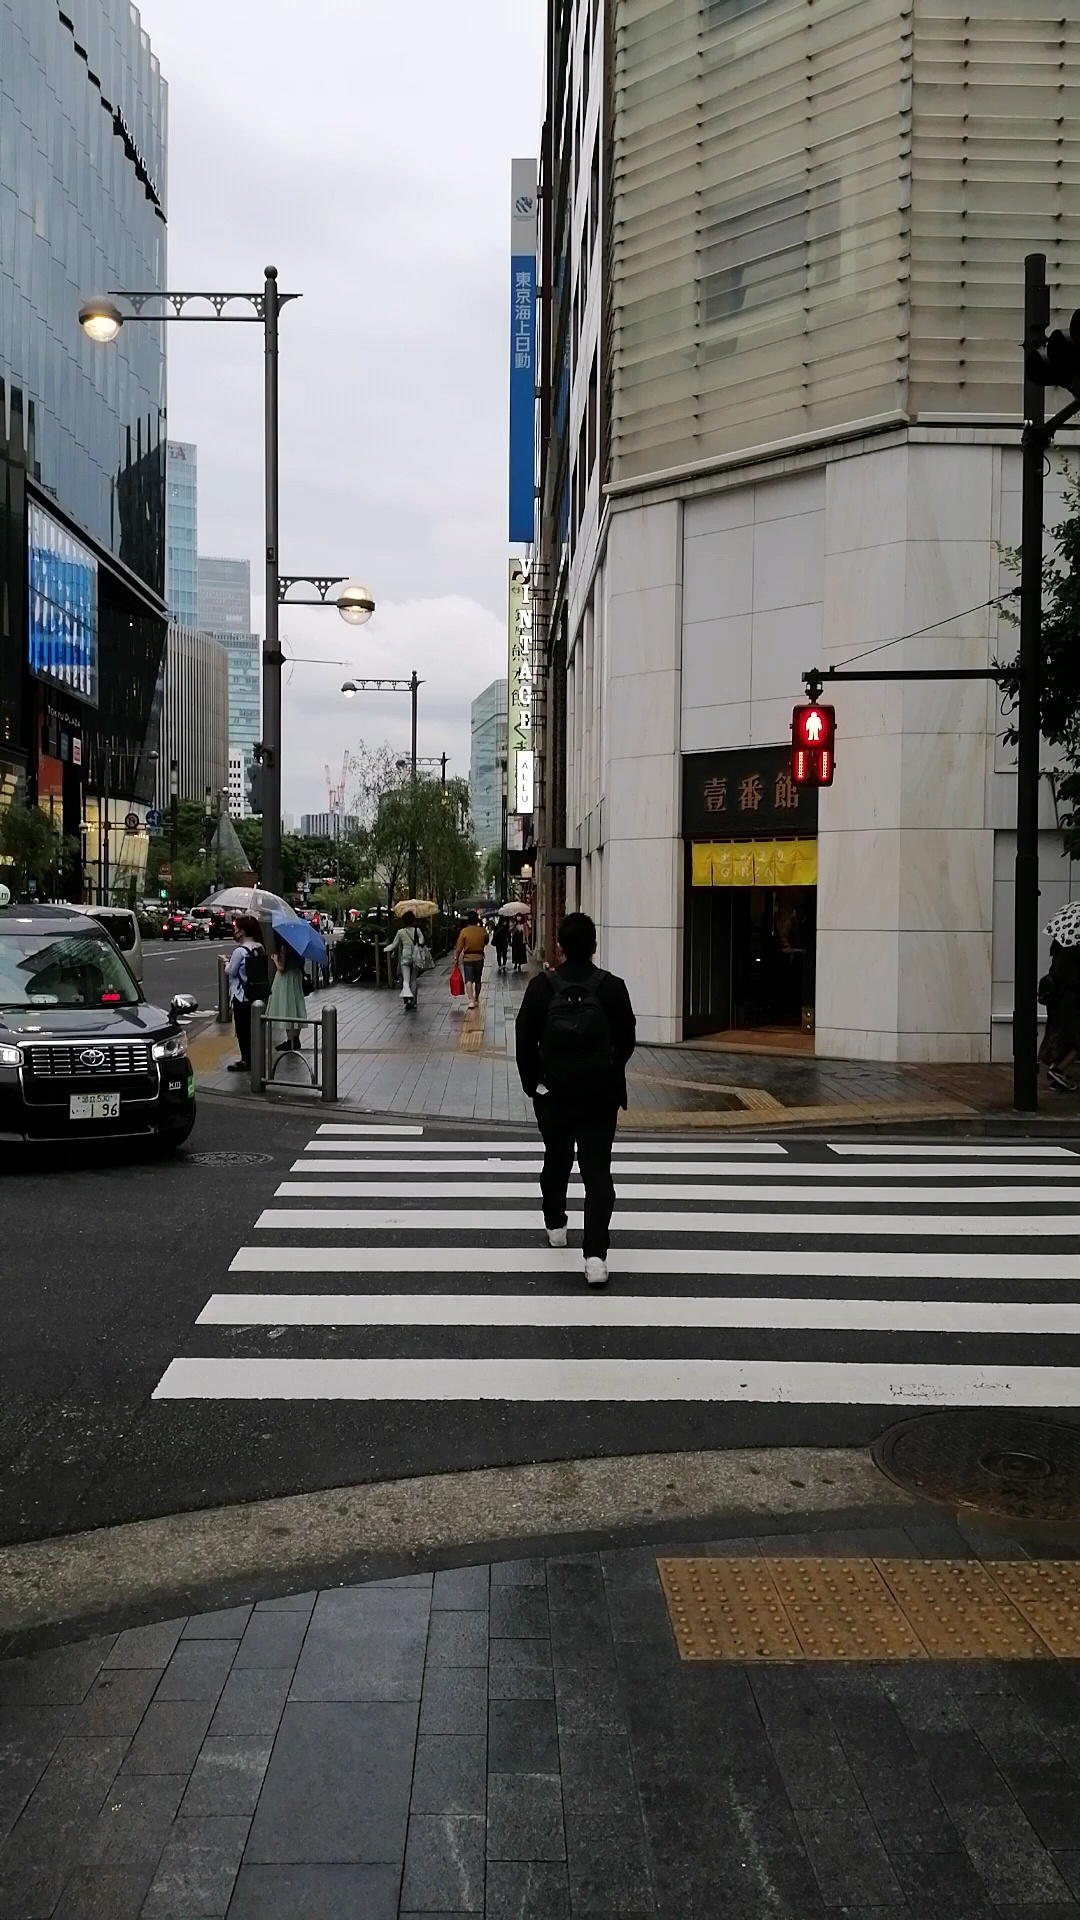red: (789, 702, 837, 786)
